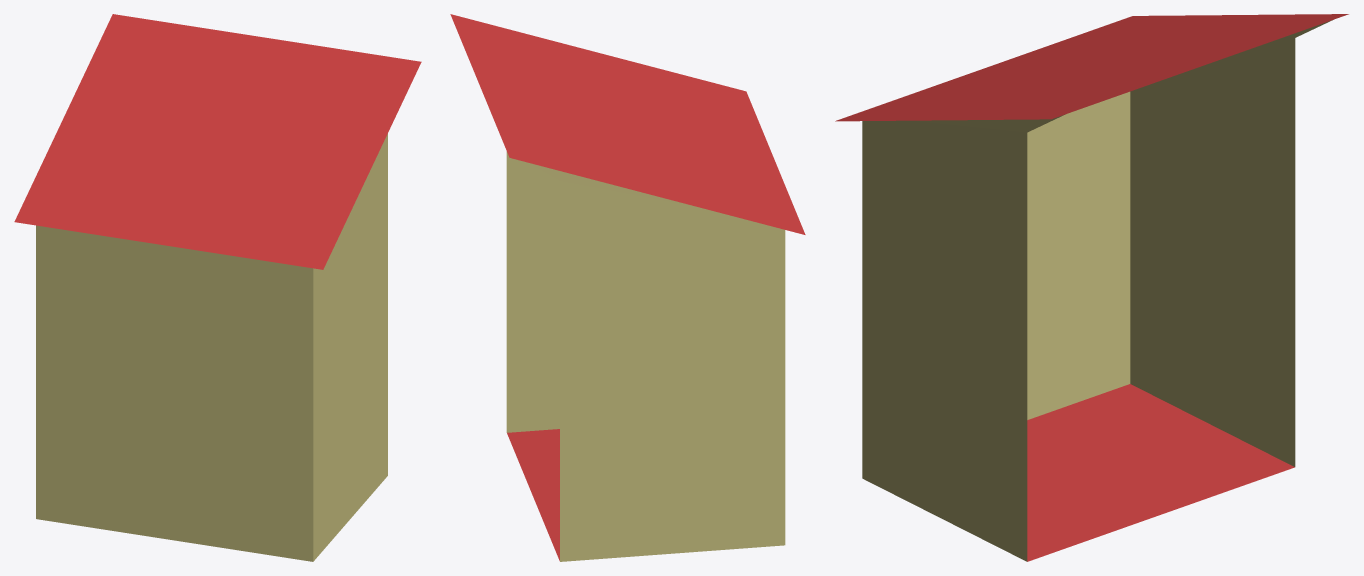
The picture shows the model from 3 angles, left to right: view 1: azimuth 30°, elevation 25°; view 2: azimuth 150°, elevation 25°; view 3: azimuth 270°, elevation 25°; orthographic projection. The views are drawn at different scales.
Bounding box in the file's own units: 6.4 × 6.48 × 6.49.
